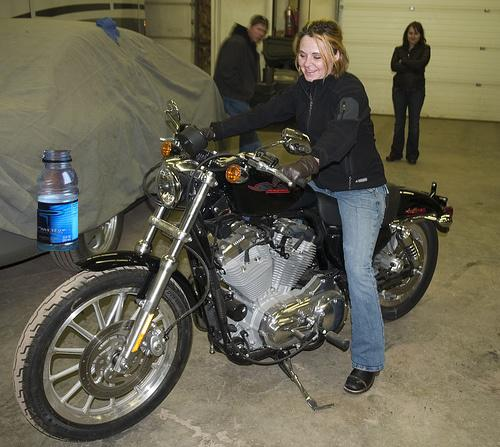tampered: (38, 151, 79, 251)
